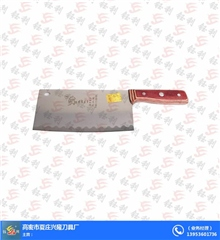knief: (24, 81, 202, 133)
